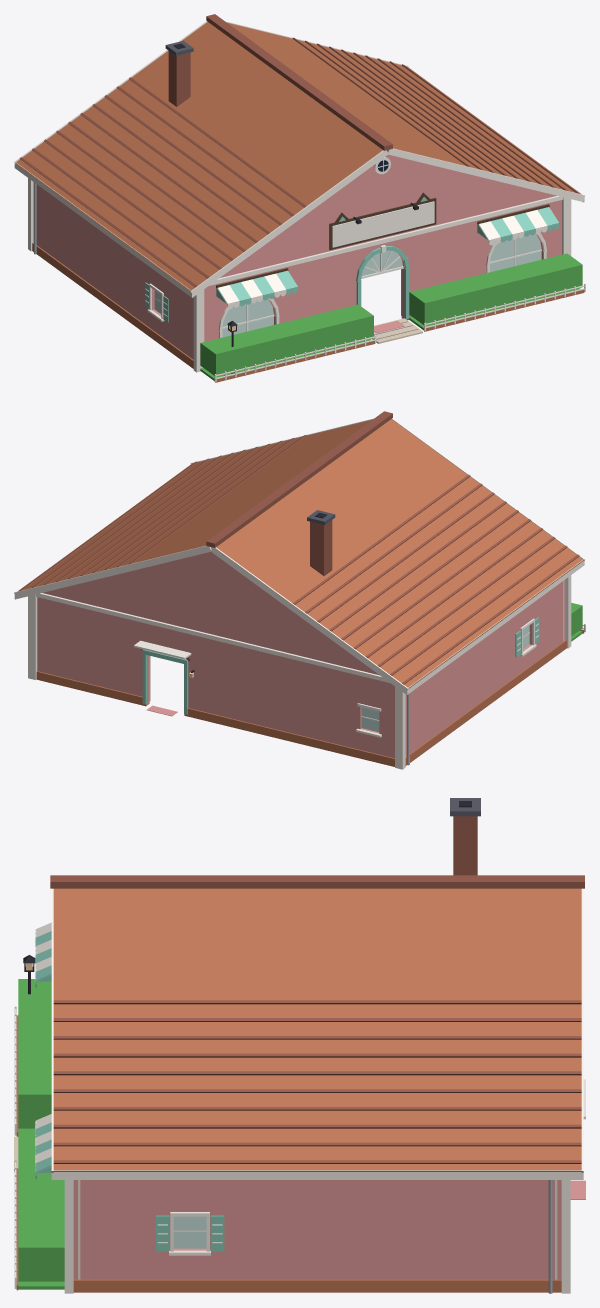
The model's file is CatCafe_Plot_Cafe_Blush_56x43.glb.
3 renders of one model, top to bottom at view 1: azimuth 30°, elevation 25°; view 2: azimuth 150°, elevation 25°; view 3: azimuth 270°, elevation 25°, orthographic. The views are drawn at different scales.
Parts seen in each view (by area): view 1: CatCafe_Plot_Cafe_Blush_56x43_Roof, CatCafe_Plot_Cafe_Blush_56x43_Paint, CatCafe_Plot_Cafe_Blush_56x43_Fireflies, CatCafe_Plot_Cafe_Blush_56x43_Trim, CatCafe_Plot_Cafe_Blush_56x43_Roof_Trim, CatCafe_Plot_Cafe_Blush_56x43_Awning, CatCafe_Plot_Cafe_Blush_56x43_Glass, CatCafe_Plot_Cafe_Blush_56x43, CatCafe_Plot_Cafe_Blush_56x43_Garden, CatCafe_Plot_Cafe_Blush_56x43_SignBoard, CatCafe_Plot_Cafe_Blush_56x43_Flowers, CatCafe_Plot_Cafe_Blush_56x43_Path; view 2: CatCafe_Plot_Cafe_Blush_56x43_Roof, CatCafe_Plot_Cafe_Blush_56x43_Paint, CatCafe_Plot_Cafe_Blush_56x43_Trim, CatCafe_Plot_Cafe_Blush_56x43_Roof_Trim, CatCafe_Plot_Cafe_Blush_56x43, CatCafe_Plot_Cafe_Blush_56x43_Glass; view 3: CatCafe_Plot_Cafe_Blush_56x43_Roof, CatCafe_Plot_Cafe_Blush_56x43_Paint, CatCafe_Plot_Cafe_Blush_56x43_Fireflies, CatCafe_Plot_Cafe_Blush_56x43, CatCafe_Plot_Cafe_Blush_56x43_Roof_Trim, CatCafe_Plot_Cafe_Blush_56x43_Trim, CatCafe_Plot_Cafe_Blush_56x43_Awning, CatCafe_Plot_Cafe_Blush_56x43_Garden, CatCafe_Plot_Cafe_Blush_56x43_Glass.
Boxes of the visible parts, x1,y1,x2,y2 form: CatCafe_Plot_Cafe_Blush_56x43_Roof: (15, 14, 581, 291); CatCafe_Plot_Cafe_Blush_56x43_Paint: (33, 154, 561, 359); CatCafe_Plot_Cafe_Blush_56x43_Fireflies: (200, 253, 582, 376); CatCafe_Plot_Cafe_Blush_56x43_Trim: (28, 157, 571, 372); CatCafe_Plot_Cafe_Blush_56x43_Roof_Trim: (14, 21, 584, 297); CatCafe_Plot_Cafe_Blush_56x43_Awning: (216, 207, 559, 308); CatCafe_Plot_Cafe_Blush_56x43_Glass: (154, 234, 541, 337); CatCafe_Plot_Cafe_Blush_56x43: (32, 160, 541, 368); CatCafe_Plot_Cafe_Blush_56x43_Garden: (214, 284, 585, 382); CatCafe_Plot_Cafe_Blush_56x43_SignBoard: (332, 201, 434, 247); CatCafe_Plot_Cafe_Blush_56x43_Flowers: (200, 288, 580, 380); CatCafe_Plot_Cafe_Blush_56x43_Path: (372, 318, 422, 343); CatCafe_Plot_Cafe_Blush_56x43_Roof: (17, 411, 583, 688); CatCafe_Plot_Cafe_Blush_56x43_Paint: (37, 552, 565, 758); CatCafe_Plot_Cafe_Blush_56x43_Trim: (28, 575, 571, 769); CatCafe_Plot_Cafe_Blush_56x43_Roof_Trim: (14, 418, 585, 694); CatCafe_Plot_Cafe_Blush_56x43: (36, 617, 566, 766); CatCafe_Plot_Cafe_Blush_56x43_Glass: (361, 625, 529, 732); CatCafe_Plot_Cafe_Blush_56x43_Roof: (50, 798, 584, 1171); CatCafe_Plot_Cafe_Blush_56x43_Paint: (73, 1180, 561, 1279); CatCafe_Plot_Cafe_Blush_56x43_Fireflies: (18, 979, 64, 1281); CatCafe_Plot_Cafe_Blush_56x43: (73, 1180, 585, 1293); CatCafe_Plot_Cafe_Blush_56x43_Roof_Trim: (51, 888, 583, 1179); CatCafe_Plot_Cafe_Blush_56x43_Trim: (64, 1079, 585, 1293); CatCafe_Plot_Cafe_Blush_56x43_Awning: (35, 922, 51, 1178); CatCafe_Plot_Cafe_Blush_56x43_Garden: (14, 955, 35, 1290); CatCafe_Plot_Cafe_Blush_56x43_Glass: (173, 1216, 206, 1248).
Size of the model in its own units: 61.86 by 30.06 by 51.8.
Materials: 1 (1 with a texture image).
